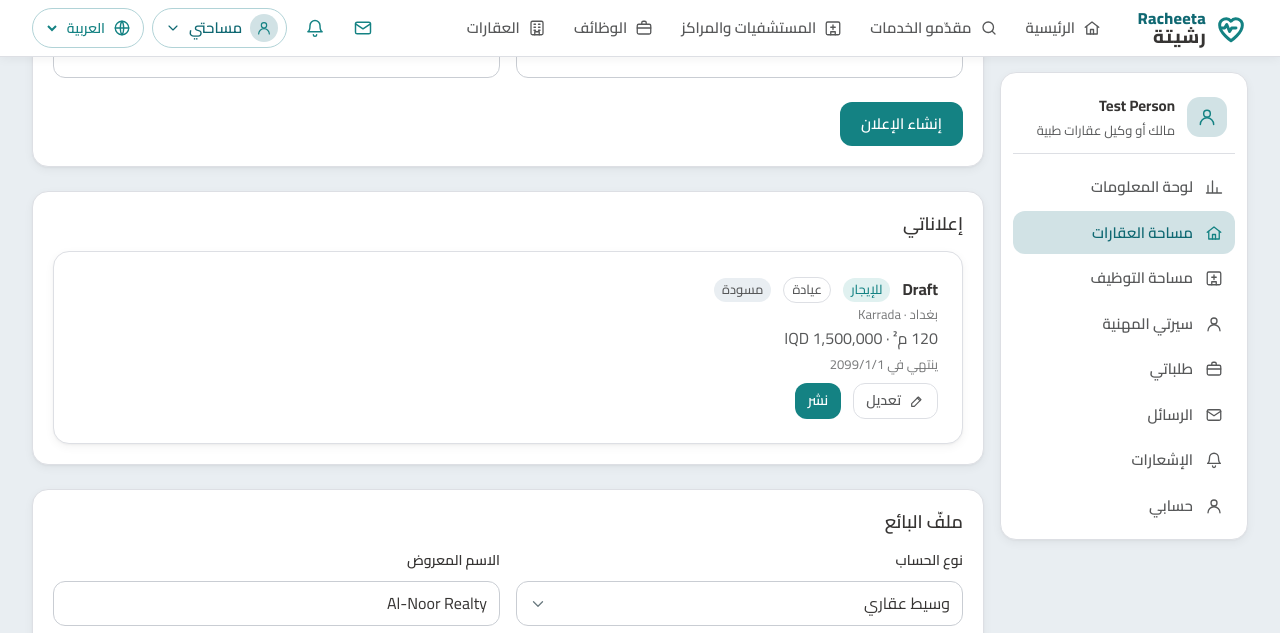
Test: Seller workspace › publication › surfaces a non-field refusal such as an ineligible seller account
The image size is (1280, 633).
(page scrolled)
Click the button "نشر": (818, 401) [795,383,841,419]
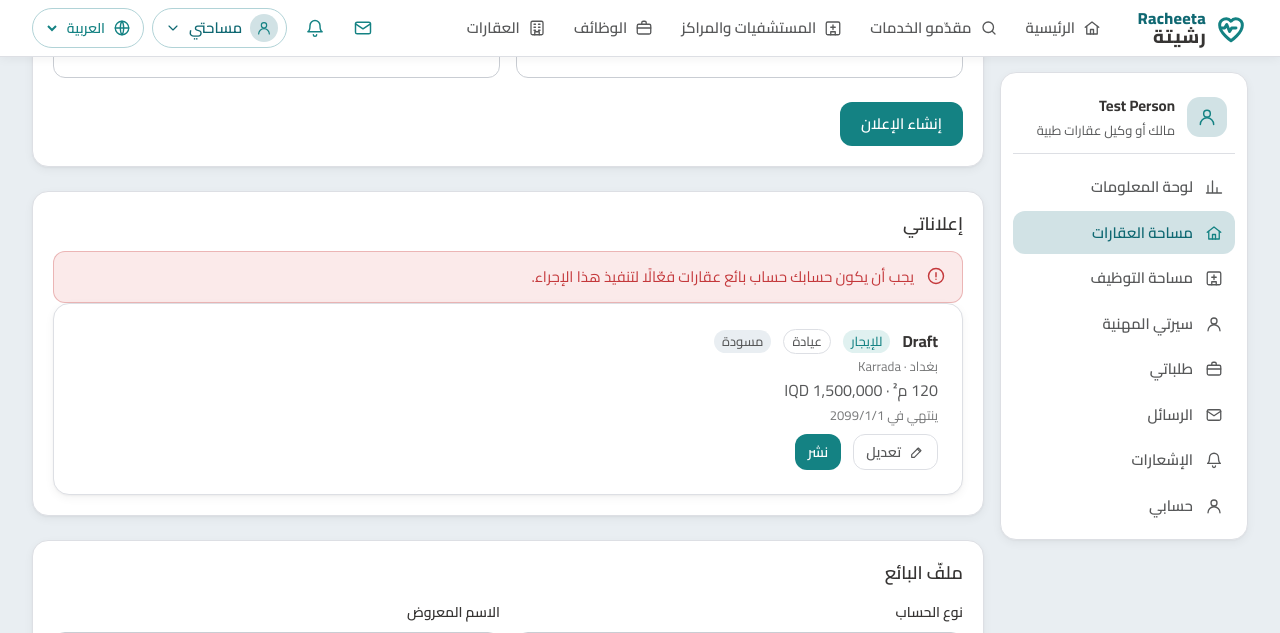
Check: the message reads "يجب أن يكون حسابك حساب بائع عقارات فعّالًا لتنفيذ هذا الإجراء.", box [531,262,914,291]
